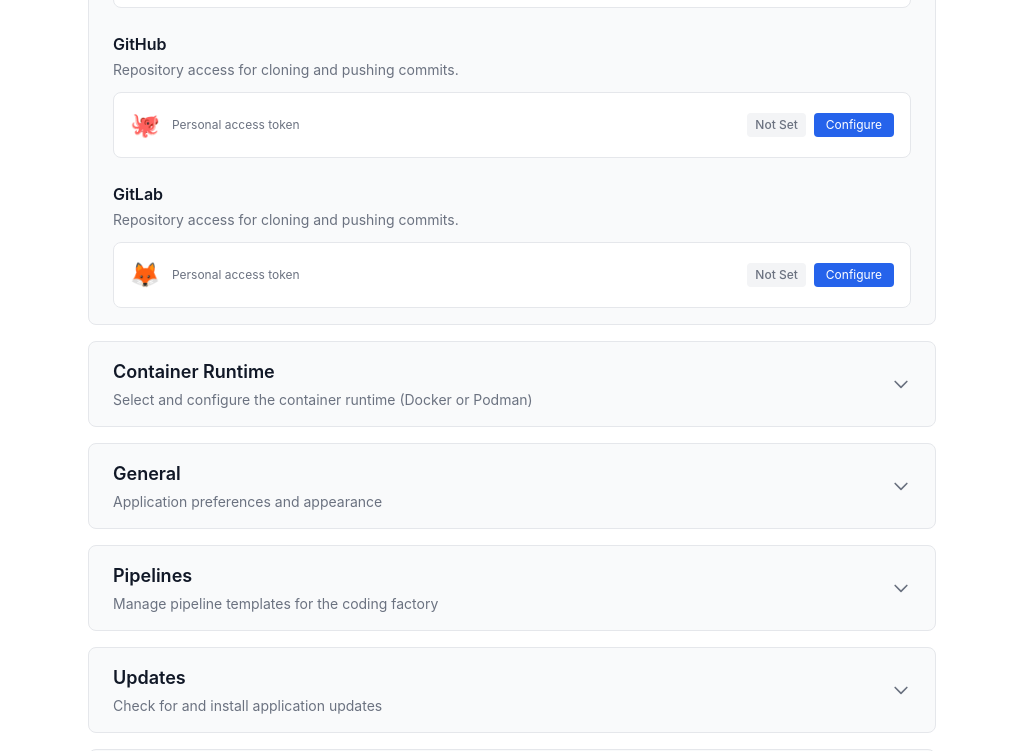
it: SettingsTab › Section Collapsing › should have correct aria-expanded attribute
The image size is (1024, 751).
(page scrolled)
Click the button "Container Runtime" at (194, 372), box [89,342,935,426]
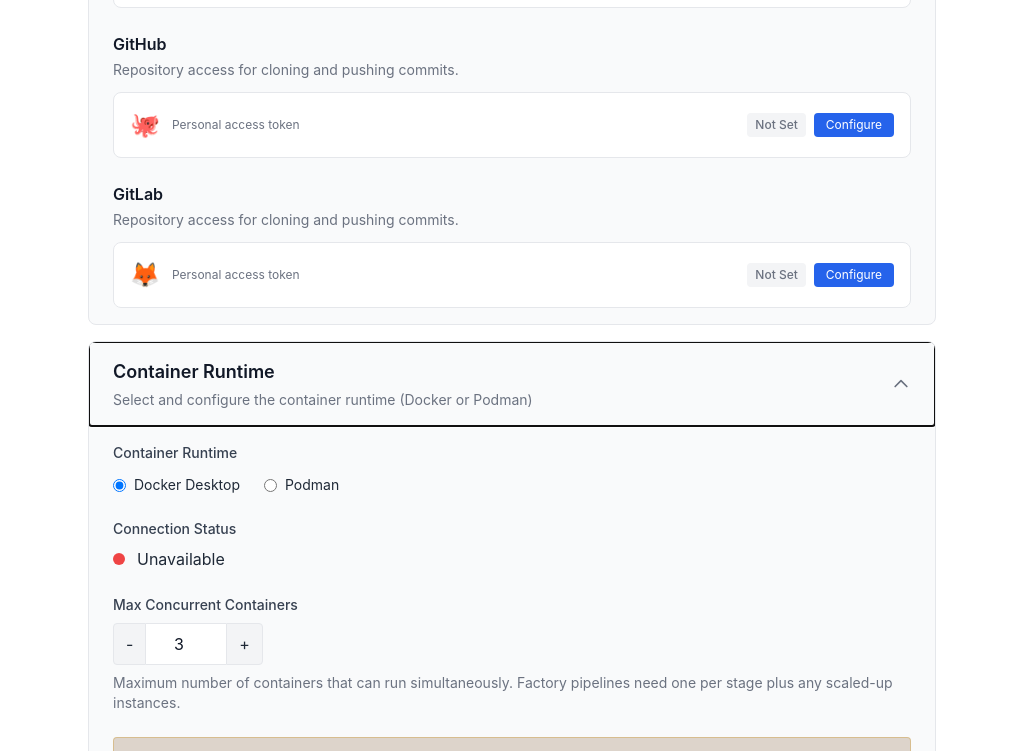
Now the button "Container Runtime" is expanded
Click the button "Container Runtime" at (194, 372), box [89,342,935,426]
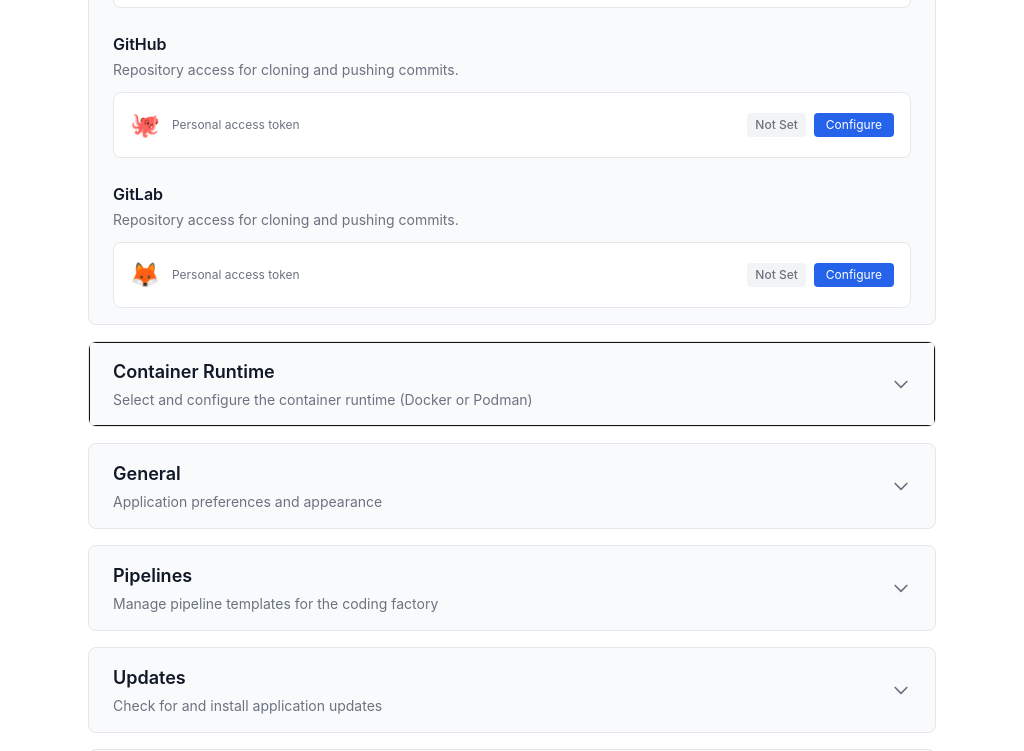
Now the button "Container Runtime" is collapsed, box [89,342,935,426]
